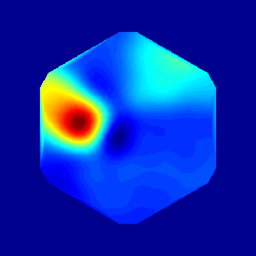ship: (95, 122, 133, 150)
wave: (41, 92, 106, 145)
